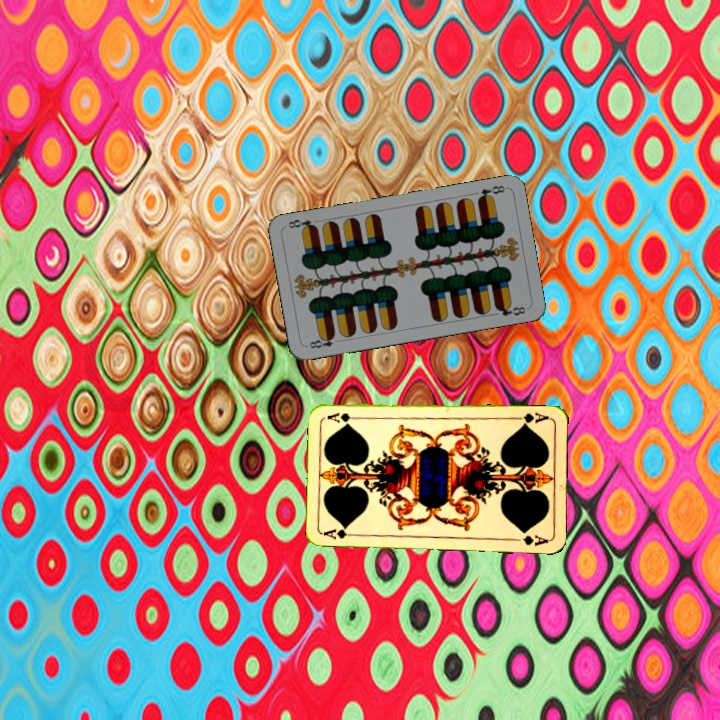E8: (303, 331, 344, 351), (473, 181, 507, 203)
GA: (511, 409, 552, 428), (320, 526, 361, 542)
